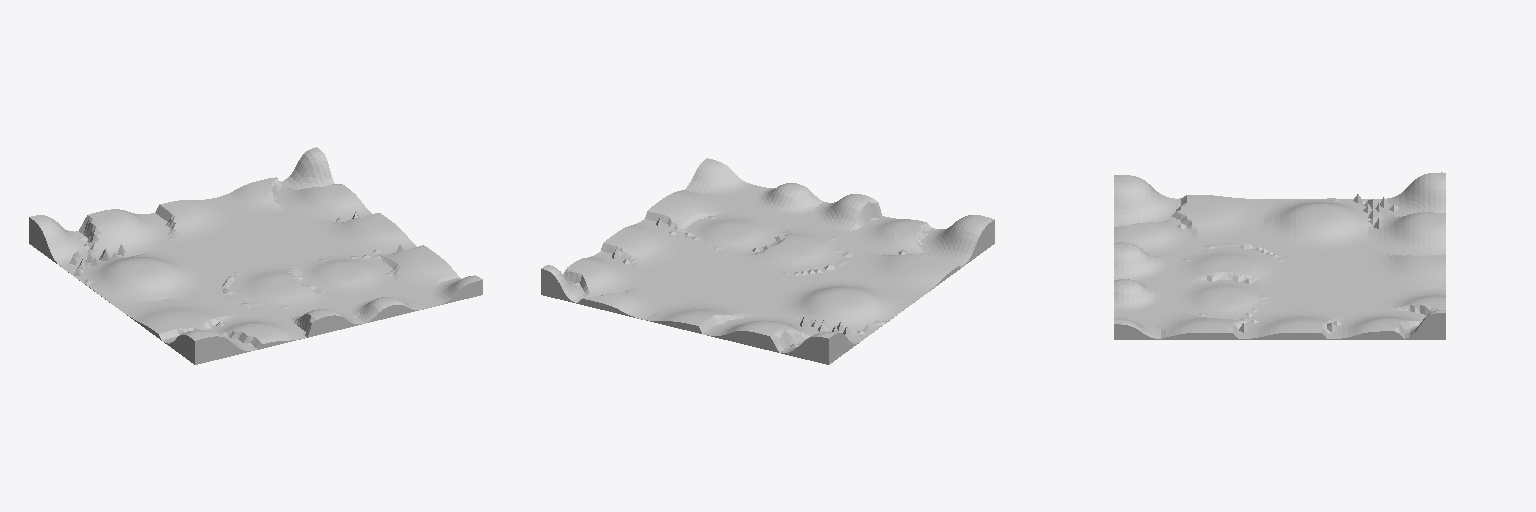
The model's file is ziemia.obj.
3 views of the same model, side by side, from view 1: azimuth 30°, elevation 25°; view 2: azimuth 150°, elevation 25°; view 3: azimuth 270°, elevation 25° (orthographic).
Parts seen in each view (by area): view 1: Cube_Cube.001; view 2: Cube_Cube.001; view 3: Cube_Cube.001.
Boxes of the visible parts, x1,y1,x2,y2 form: Cube_Cube.001: [29, 147, 482, 364]; Cube_Cube.001: [541, 158, 994, 364]; Cube_Cube.001: [1114, 172, 1445, 339].
Size of the model in its own units: 106 by 9.34 by 106.